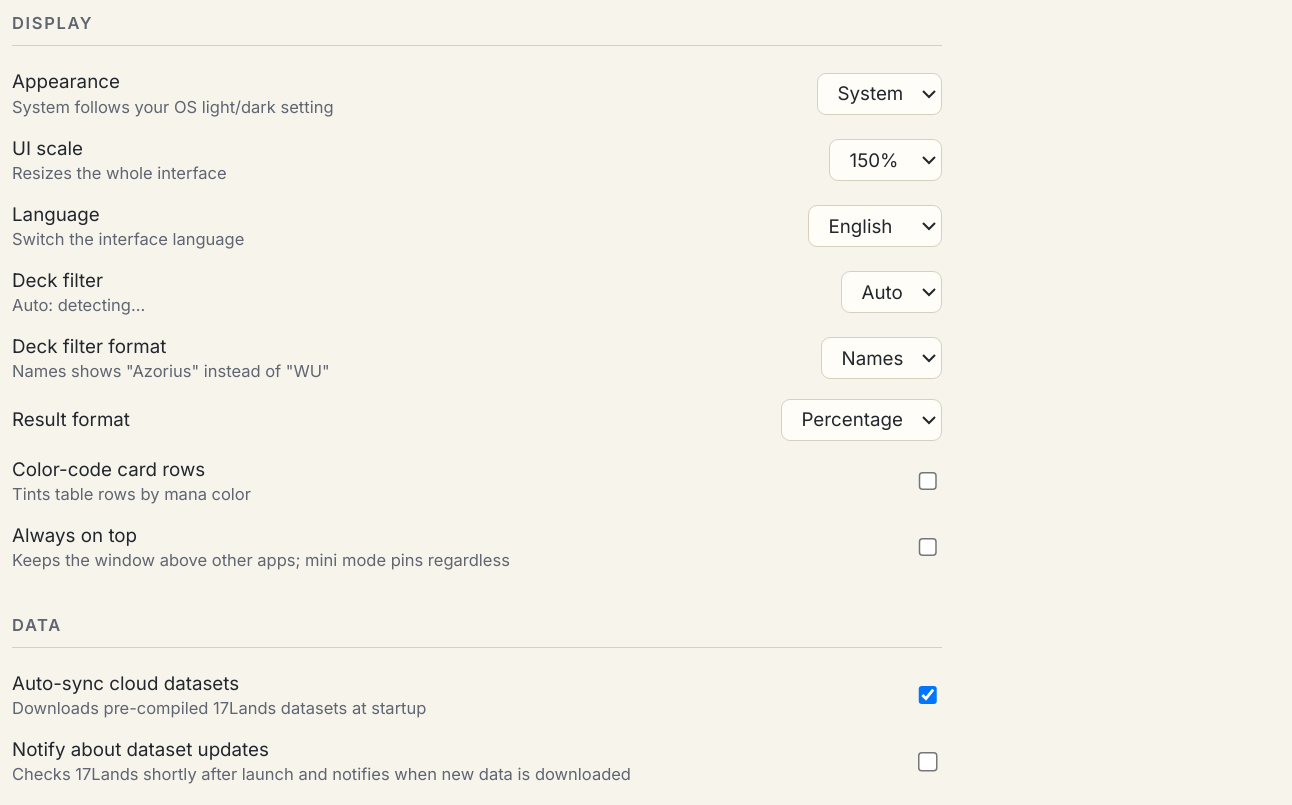
it: SettingsPage › switching the language patches the backend and flips the UI
This screenshot has width=1292, height=805.
Select "简体中文" in the dropdown in the row of "Switch the interface language" at (875, 226), box [808,205,942,247]
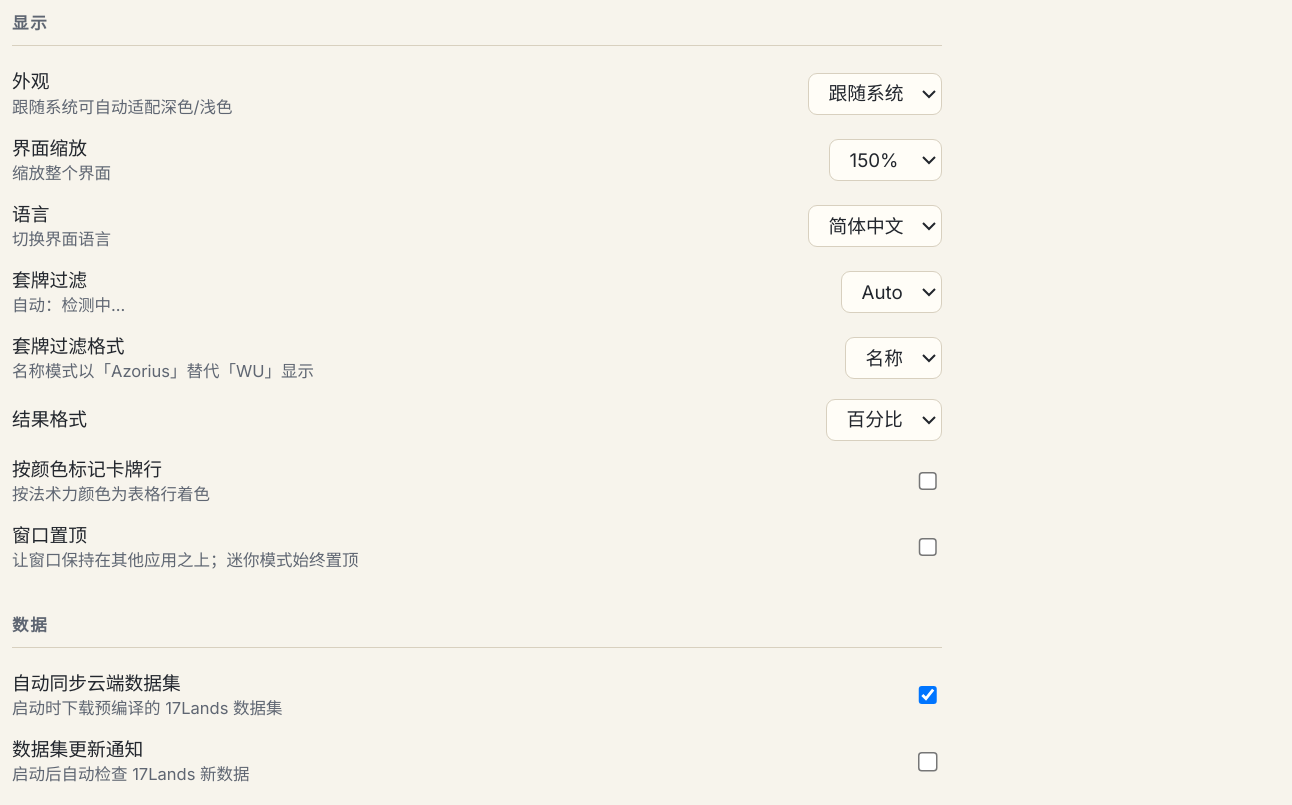
Expected: the heading "显示" is shown, [12,12,942,46]
